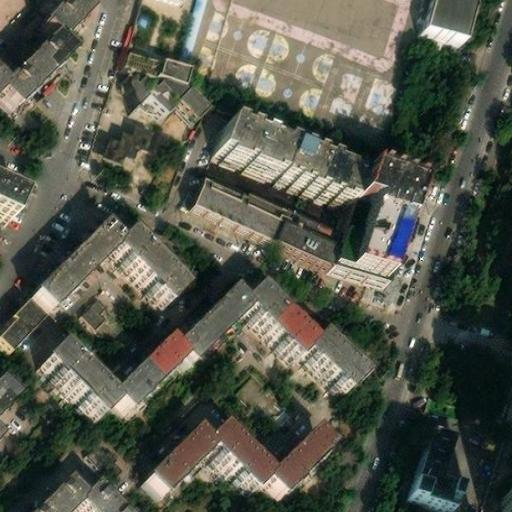building: (213, 117, 364, 197), (352, 152, 427, 267), (30, 216, 121, 308), (40, 338, 120, 417), (186, 174, 281, 239), (171, 283, 249, 361), (123, 43, 211, 109), (239, 276, 315, 351), (112, 225, 186, 298), (111, 333, 183, 406), (262, 423, 334, 494), (140, 423, 211, 495), (300, 326, 369, 394), (203, 416, 271, 485), (415, 417, 467, 499), (269, 209, 338, 262), (0, 289, 50, 344), (20, 471, 81, 512), (339, 187, 373, 253), (72, 477, 130, 512), (100, 128, 145, 171), (421, 0, 470, 37), (75, 295, 114, 334), (0, 167, 27, 219)
